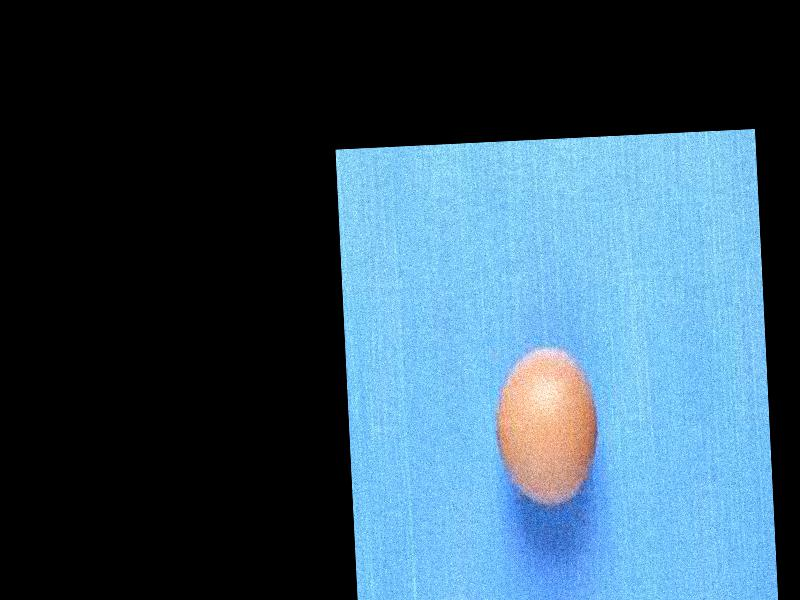Eggs: (493, 342, 600, 512)
